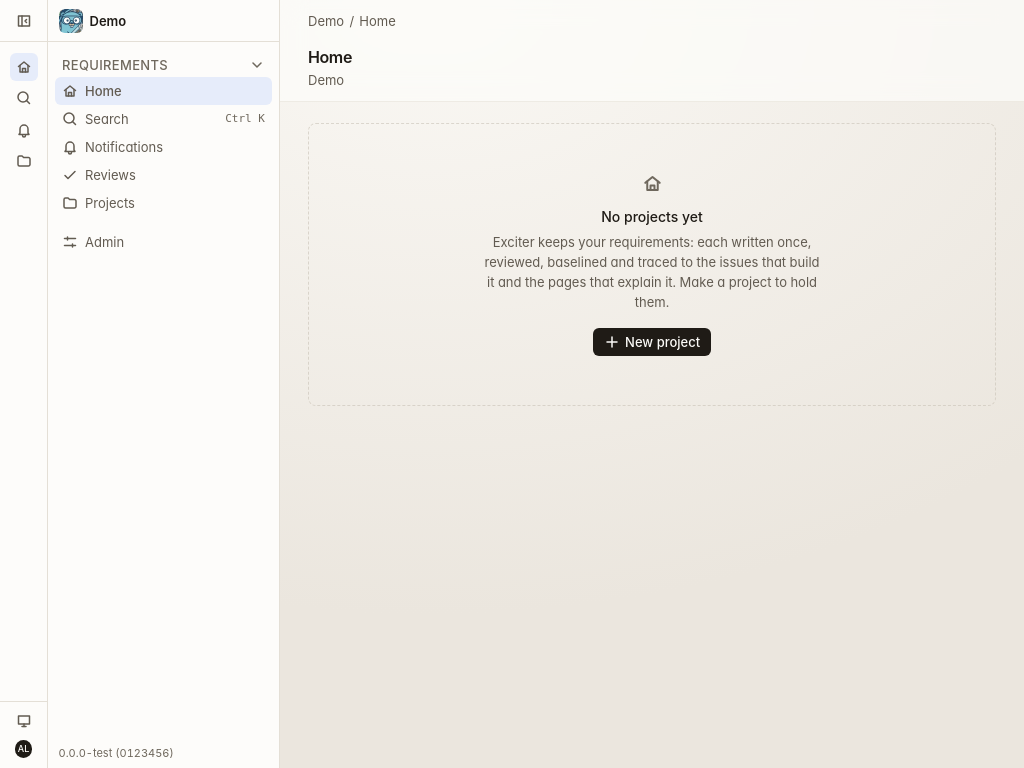
Test: the palette when the quick search goes wrong › says the quick search is not answering, and still offers the full search
The width and height of the screenshot is (1024, 768).
Type keys "{Control>}k{/Control}"
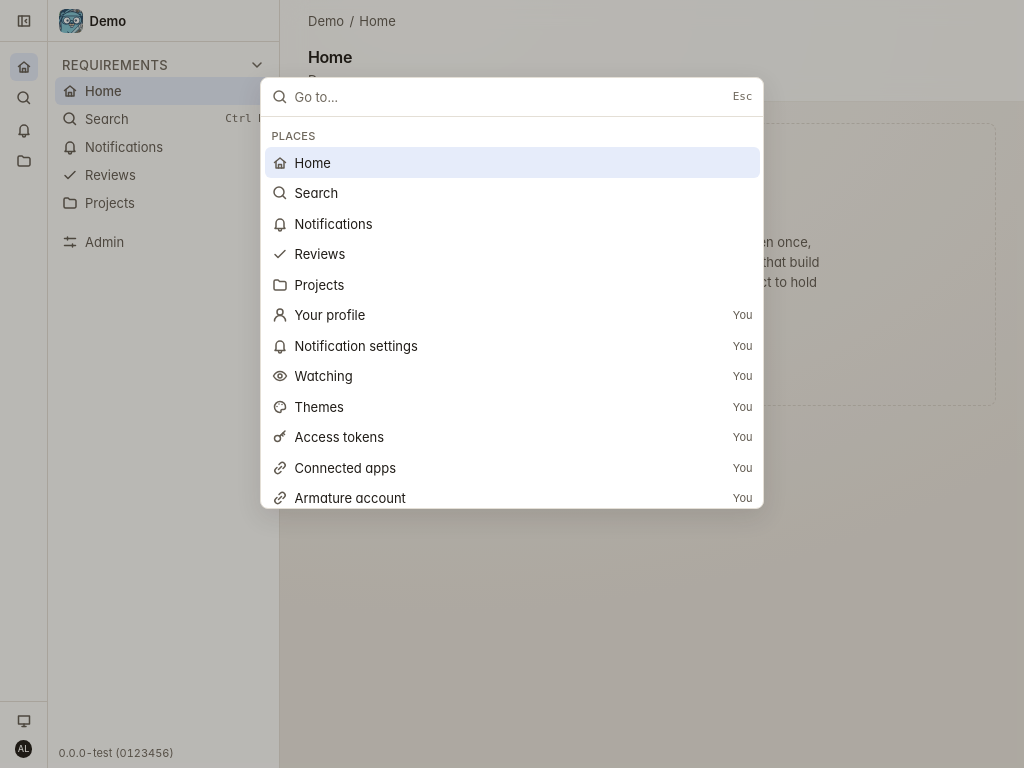
Type "brake" into the dropdown at (510, 97), box left=294, top=78, right=726, bottom=116
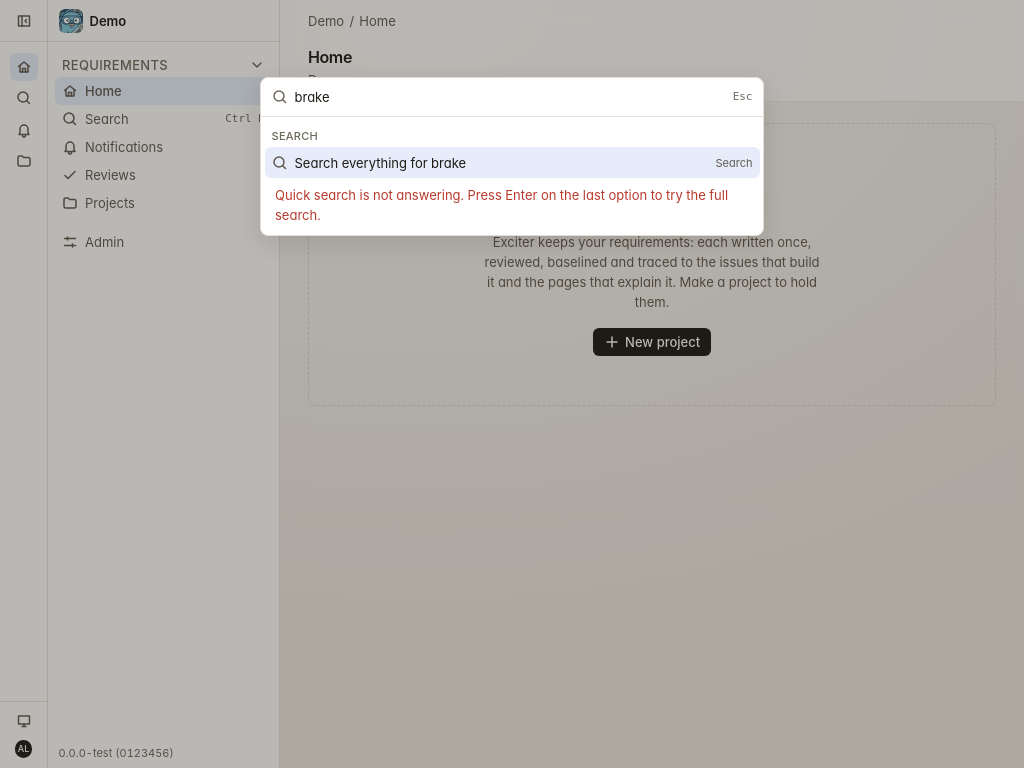
Result: the text "Quick search is not answering. Press Enter on the last option to try the full search." is shown at left=275, top=187, right=728, bottom=223
